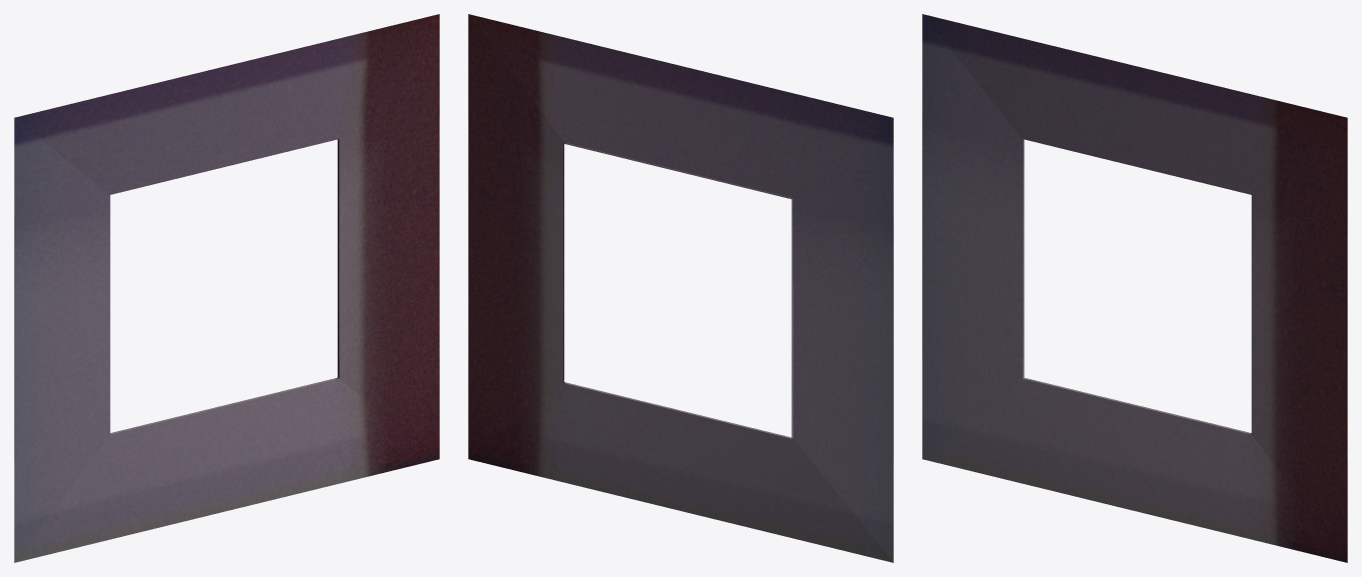
Rendered from tofu_marie_louise.glb.
3 views of the same model, side by side, from view 1: azimuth 30°, elevation 25°; view 2: azimuth 150°, elevation 25°; view 3: azimuth 330°, elevation 25° (orthographic).
Visible parts, largest first — view 1: tofu_marie_louise; view 2: tofu_marie_louise; view 3: tofu_marie_louise.
Boxes of the visible parts, box(x1,y1,x2,y2) form: tofu_marie_louise: box(14, 14, 439, 562); tofu_marie_louise: box(468, 14, 893, 562); tofu_marie_louise: box(922, 14, 1347, 562).
Size of the model in its own units: 1.79 by 1.79 by 0.0274.
1 material, 1 textured.
